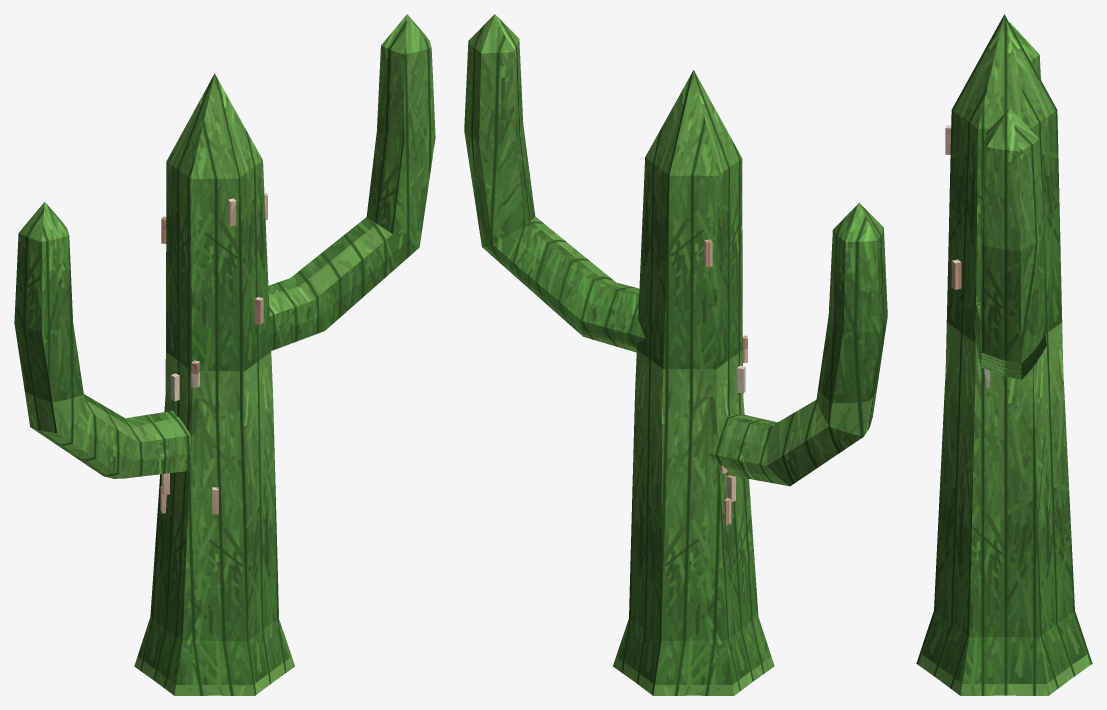
The model's file is saguaro2.glb.
The picture shows the model from 3 angles, left to right: view 1: azimuth 30°, elevation 25°; view 2: azimuth 150°, elevation 25°; view 3: azimuth 270°, elevation 25°; orthographic projection. The views are drawn at different scales.
Parts seen in each view (by area): view 1: Saguaro_2_cuerpo; view 2: Saguaro_2_cuerpo; view 3: Saguaro_2_cuerpo.
Part boxes in pixels (bbox=[...]): Saguaro_2_cuerpo: bbox=[14, 14, 435, 695]; Saguaro_2_cuerpo: bbox=[464, 14, 887, 695]; Saguaro_2_cuerpo: bbox=[916, 14, 1092, 695].
Bounding box in the file's own units: 8.9 × 12.4 × 3.
Materials: 2 (2 with a texture image).
